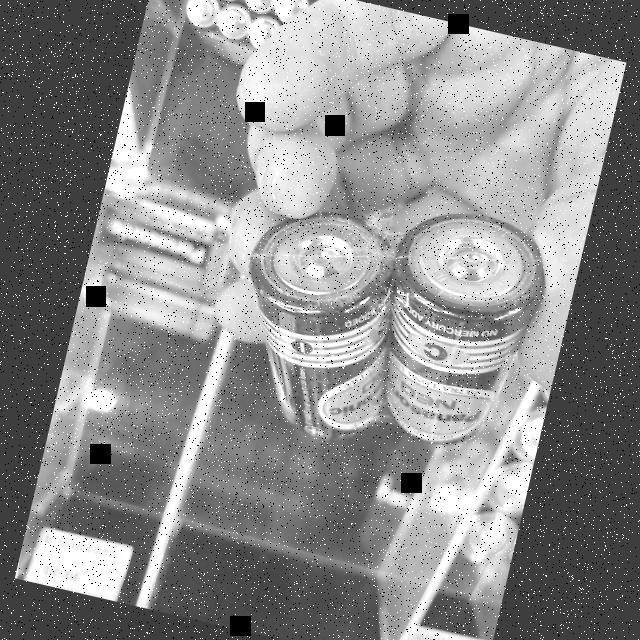battery: (214, 204, 437, 466), (352, 196, 554, 485)
